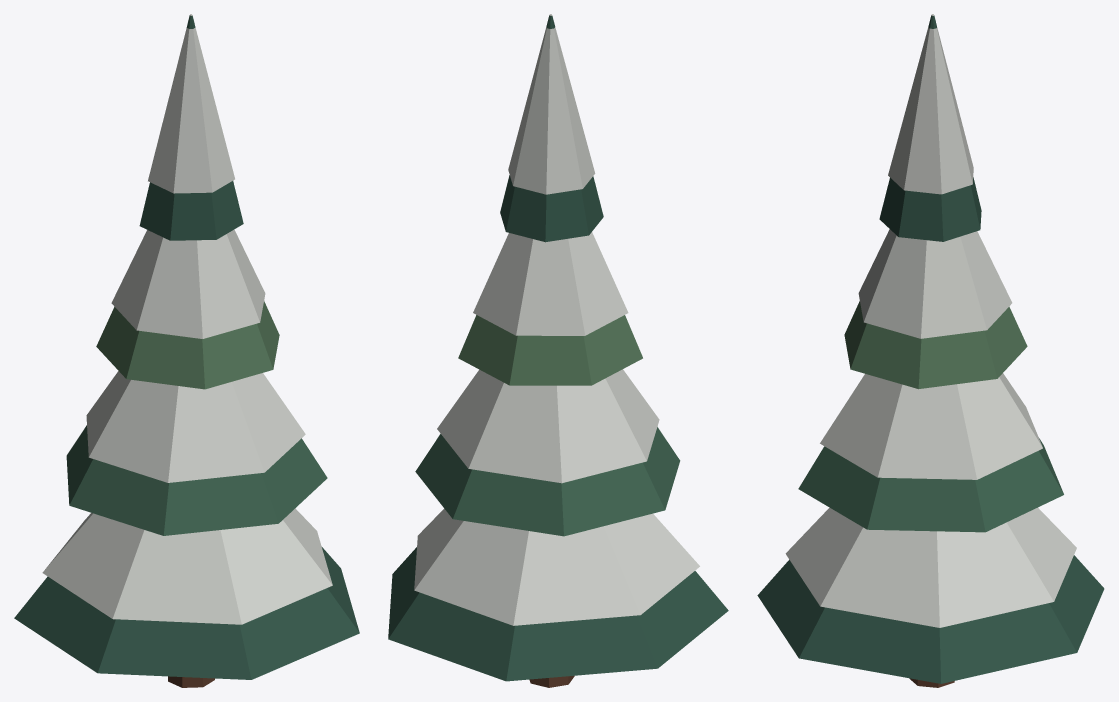
3 renders of one model, left to right at view 1: azimuth 30°, elevation 25°; view 2: azimuth 150°, elevation 25°; view 3: azimuth 270°, elevation 25°, orthographic.
Parts seen in each view (by area): view 1: T05_高脊雪杉; view 2: T05_高脊雪杉; view 3: T05_高脊雪杉.
Boxes of the visible parts, box(x1,y1,x2,y2) form: T05_高脊雪杉: box(14, 14, 359, 687); T05_高脊雪杉: box(388, 14, 728, 687); T05_高脊雪杉: box(757, 14, 1104, 687).
Size of the model in its own units: 1.69 by 3.62 by 1.72.
